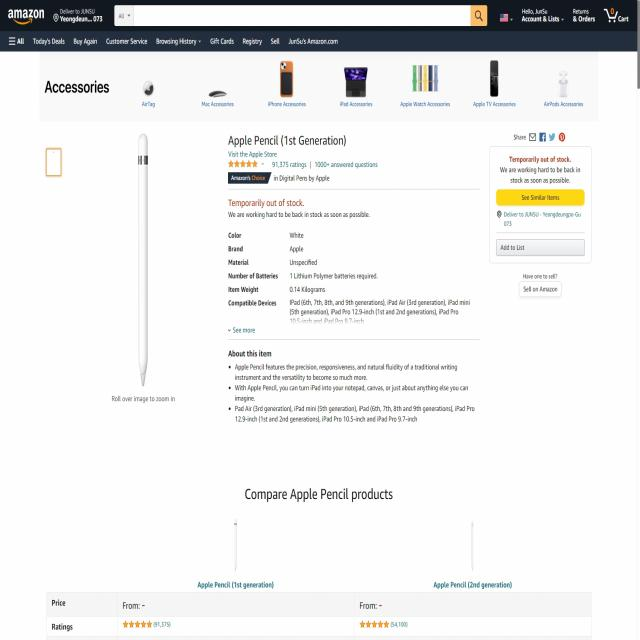menu-bar: (4, 32, 342, 49)
search: (111, 1, 489, 28)
